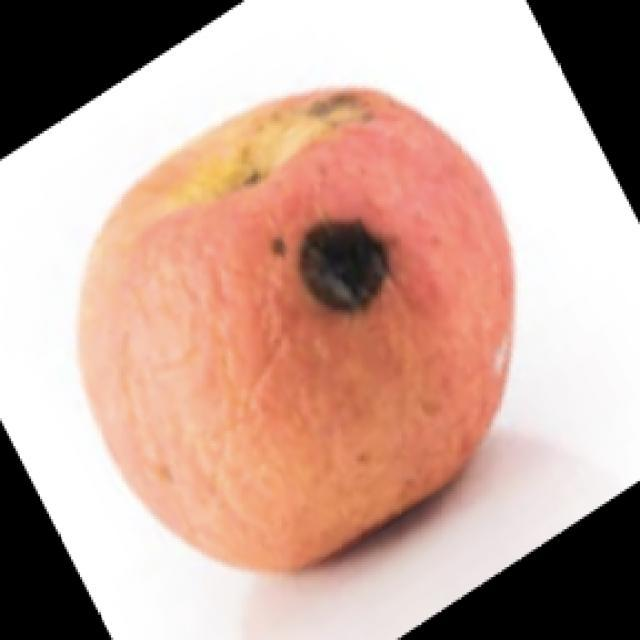Rotten: (110, 86, 505, 542)
